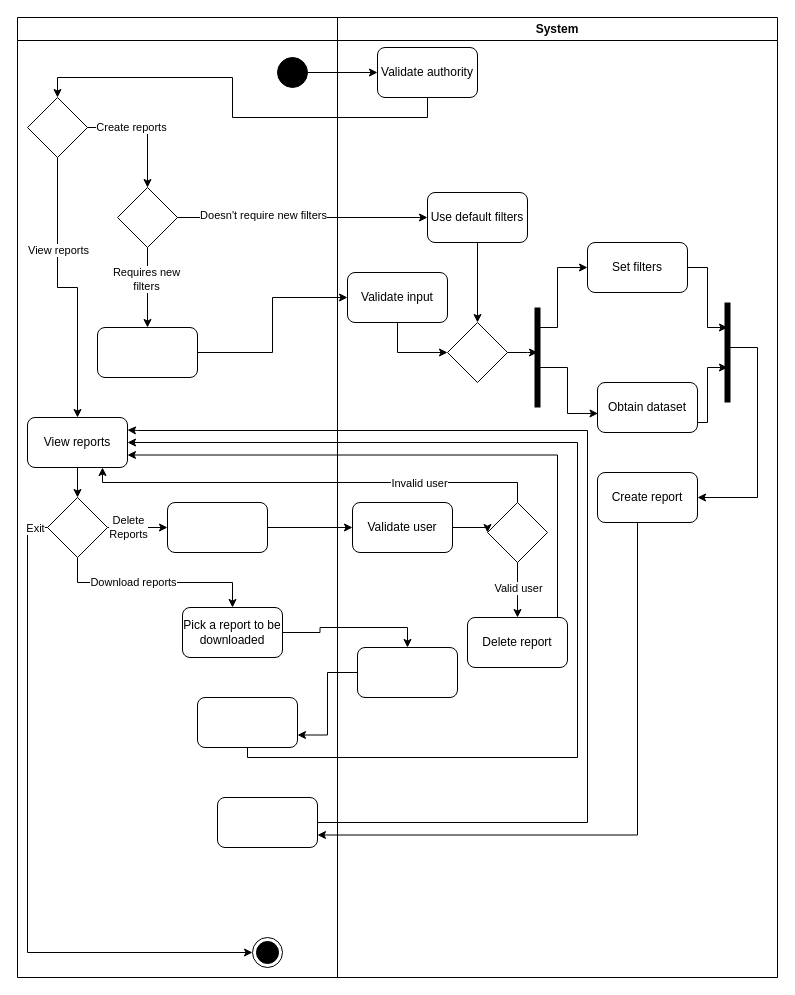
The diagram is 795 pixels wide and 995 high, and some of its shapes have lost their labels. The box of each missing label's shape, as (x1, y1, x2, y2) in pixels:
Add new filters: (96, 326, 198, 378)
Download report: (196, 696, 298, 748)
Finance / Manager: (16, 16, 338, 978)
Obtain report: (216, 796, 318, 848)
Obtain the report from database: (356, 646, 458, 698)
Pick a report to be deleted: (166, 502, 268, 552)
